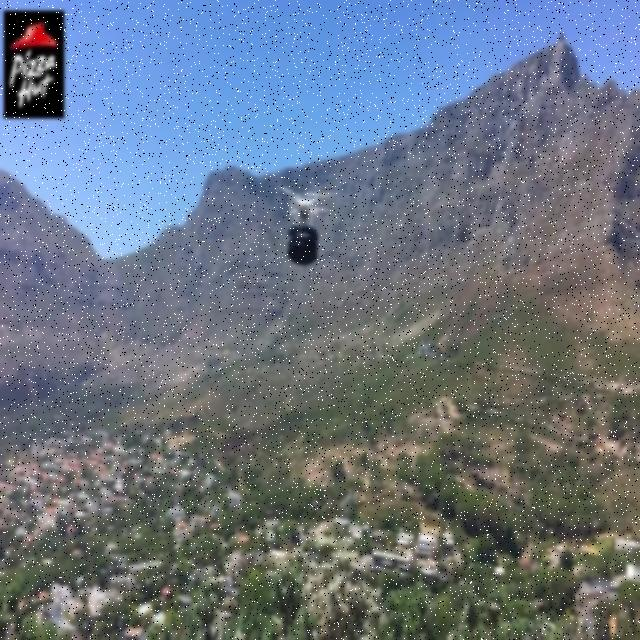UAV: (280, 186, 329, 226)
